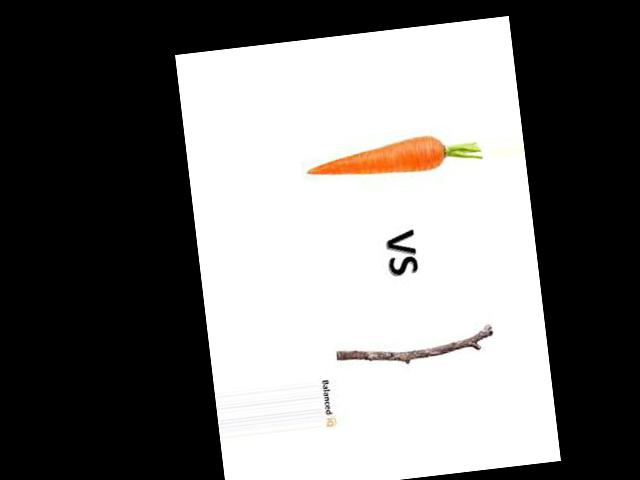carrot: (299, 131, 455, 191)
